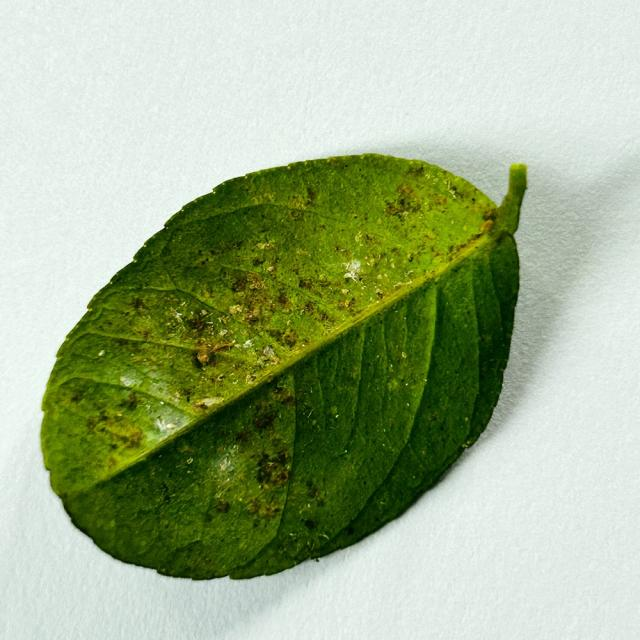Bacterial_Blight: (175, 339, 234, 383), (281, 284, 331, 324), (97, 415, 144, 451), (232, 286, 274, 323), (256, 453, 290, 489), (195, 338, 234, 366), (245, 495, 281, 519), (252, 407, 279, 430), (184, 312, 211, 334), (270, 384, 295, 405), (120, 390, 143, 411), (304, 479, 323, 502), (385, 201, 410, 218), (245, 271, 265, 290), (289, 194, 311, 210), (230, 275, 249, 293), (280, 330, 298, 348), (211, 342, 234, 355), (176, 441, 195, 456), (298, 277, 318, 291), (132, 296, 149, 312), (234, 428, 252, 443), (397, 183, 416, 197), (243, 308, 261, 322), (196, 350, 211, 366), (314, 307, 330, 322), (482, 207, 498, 222), (479, 218, 494, 233), (276, 292, 290, 308), (432, 194, 448, 207), (215, 501, 230, 514), (289, 209, 305, 221), (302, 301, 316, 314), (251, 255, 266, 267), (138, 329, 151, 340), (338, 299, 352, 309), (364, 233, 376, 244), (375, 288, 385, 299), (406, 252, 414, 262)
Lemon: (39, 154, 529, 584)
